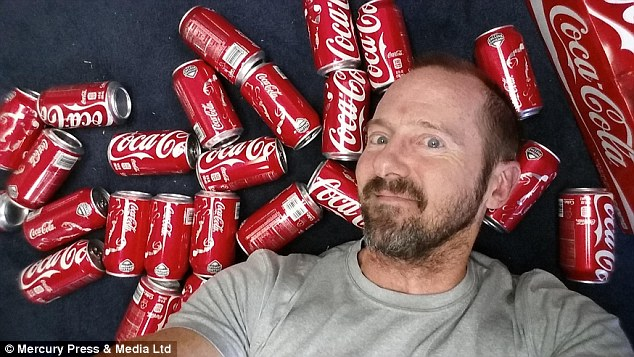coke: (550, 2, 634, 140), (562, 180, 619, 290), (243, 68, 319, 147), (178, 7, 263, 74), (170, 63, 239, 144), (505, 142, 563, 231), (481, 33, 544, 111), (19, 248, 104, 302), (241, 193, 318, 252), (24, 192, 108, 244), (302, 1, 362, 71), (21, 133, 80, 203), (196, 142, 293, 184), (39, 84, 133, 122), (362, 5, 410, 79), (110, 131, 196, 172), (195, 190, 238, 271), (152, 194, 188, 285), (309, 162, 362, 223), (327, 70, 364, 157), (113, 190, 148, 278), (1, 88, 40, 165), (128, 280, 167, 338)
